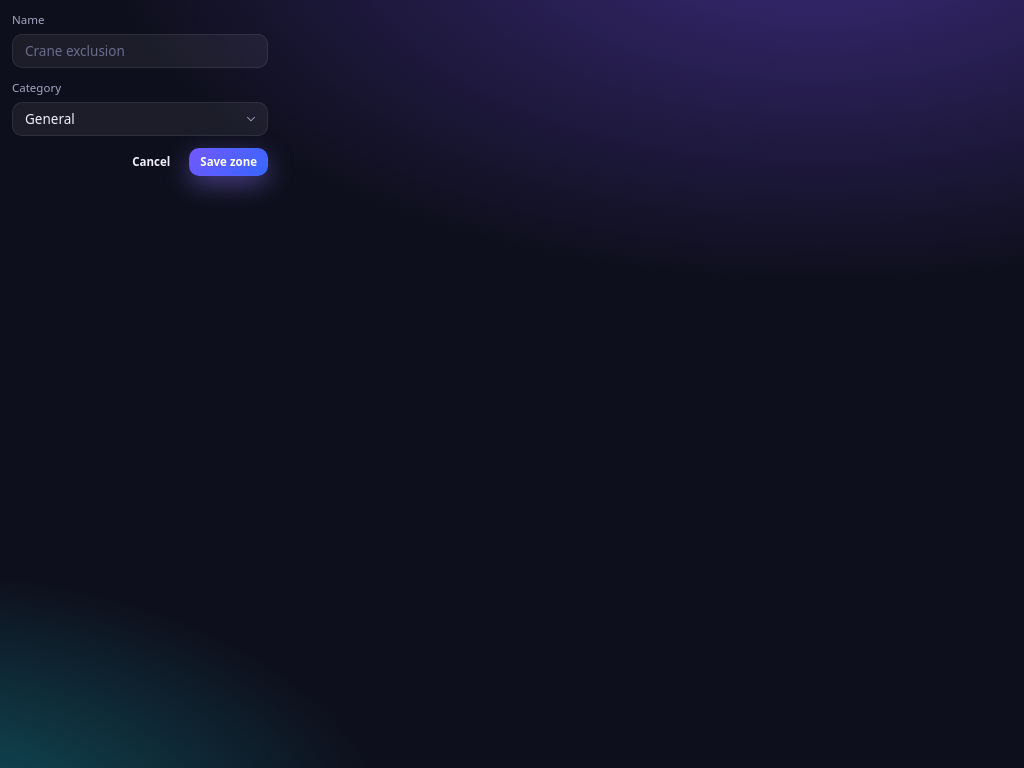
it: ZoneForm › asks for a name instead of saving a blank one
Click the button "Save zone" at (229, 162), box [189,148,268,176]
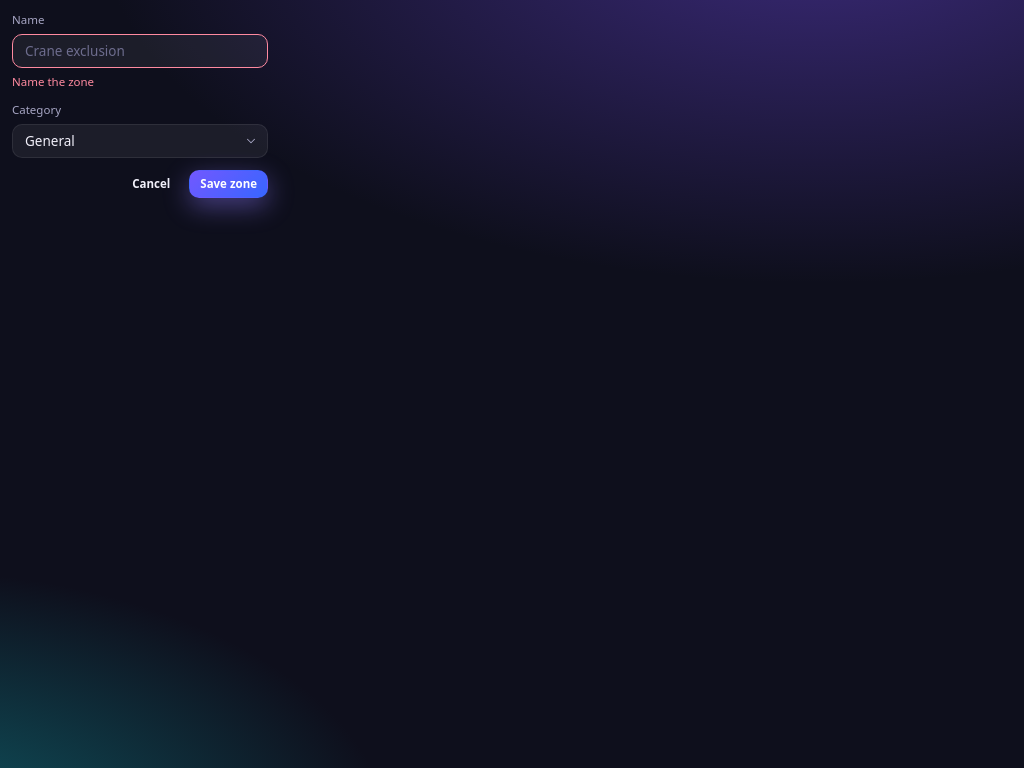
Check: the message reads "Name the zone", box [12,74,94,89]
